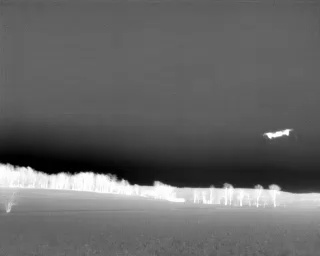DRONE: (259, 123, 298, 146)
